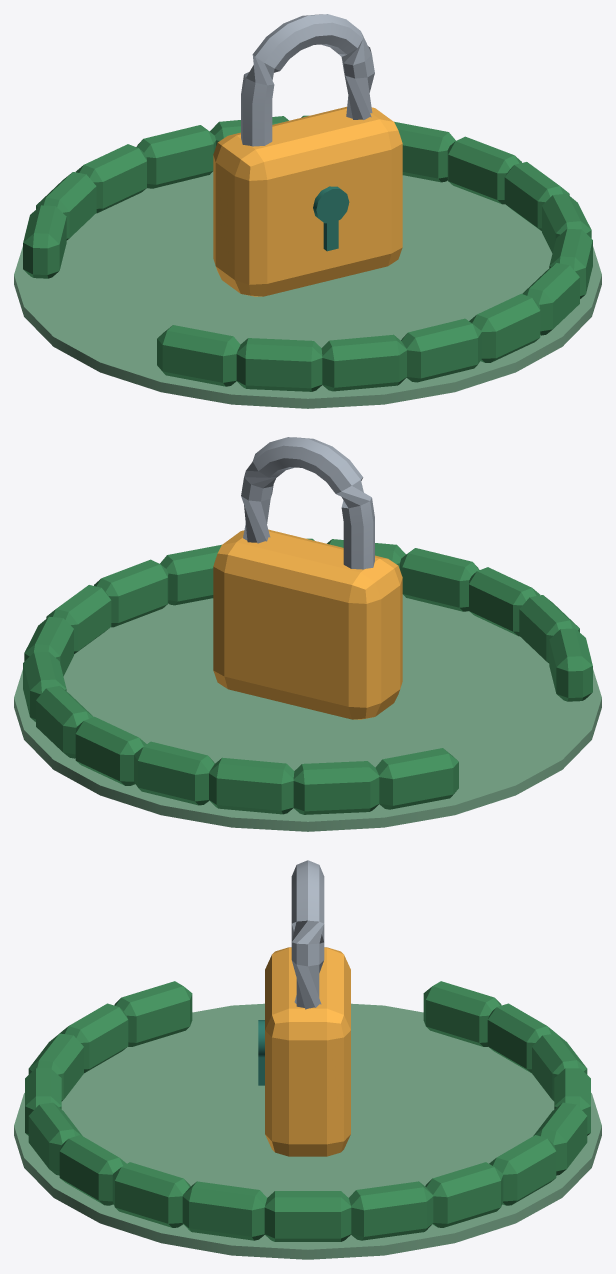
File: bld_d6_a.glb
3 renders of one model, top to bottom at view 1: azimuth 30°, elevation 25°; view 2: azimuth 150°, elevation 25°; view 3: azimuth 270°, elevation 25°, orthographic.
Visible parts, largest first — view 1: bld_d6_a; view 2: bld_d6_a; view 3: bld_d6_a.
Part boxes in pixels (left/top/right/bottom): bld_d6_a: left=14, top=14, right=601, bottom=408; bld_d6_a: left=14, top=437, right=601, bottom=831; bld_d6_a: left=14, top=860, right=601, bottom=1259.
Size of the model in its own units: 16 by 8.07 by 16.
